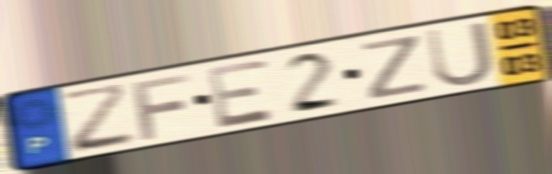2: (278, 51, 342, 117)
E: (204, 55, 278, 131)
F: (129, 71, 194, 143)
U: (423, 18, 497, 91)
Z: (58, 79, 140, 156), (357, 32, 430, 103)
